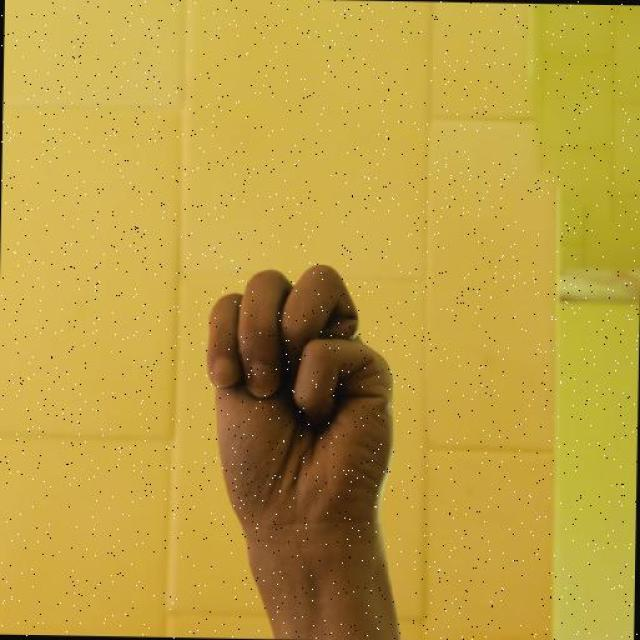M: (202, 259, 401, 539)
